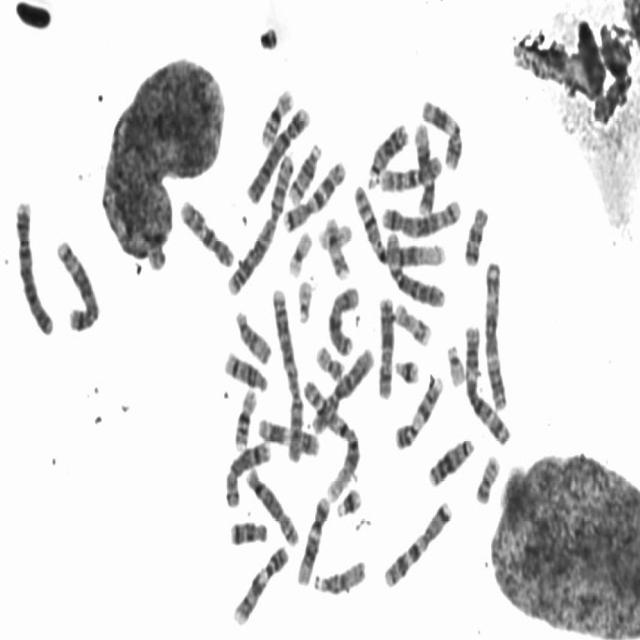A1: (350, 174, 450, 270), (298, 372, 361, 502)
A2: (222, 144, 296, 297), (267, 280, 305, 466)
A3: (460, 318, 512, 446), (479, 252, 509, 412)
B4: (242, 98, 311, 206), (10, 192, 56, 336)
B5: (51, 231, 101, 333), (377, 191, 463, 239)
C10: (175, 192, 236, 270), (375, 147, 445, 194)
C11: (418, 92, 465, 172), (253, 410, 320, 458)
C12: (292, 489, 330, 587), (409, 117, 437, 216)
C6: (306, 338, 376, 436), (382, 224, 448, 309)
C7: (379, 493, 454, 590), (279, 152, 347, 234)
C8: (242, 462, 300, 547), (220, 432, 273, 510)
C9: (229, 537, 290, 628), (390, 366, 444, 451)
D13: (362, 115, 410, 189), (424, 429, 476, 489)
D14: (284, 134, 324, 205), (220, 344, 270, 393)
D15: (308, 551, 368, 597), (231, 302, 273, 366)
E16: (256, 80, 295, 148), (228, 380, 258, 452)
E17: (390, 295, 433, 348), (321, 209, 352, 281)
E18: (460, 199, 490, 268), (226, 514, 269, 547)
F19: (284, 223, 314, 279), (314, 215, 354, 251)
F20: (471, 446, 502, 506), (311, 337, 346, 383)
G21: (332, 481, 363, 519), (390, 350, 421, 385)
G22: (442, 337, 467, 388), (292, 272, 314, 326)
X: (323, 278, 361, 357), (373, 290, 396, 401)
